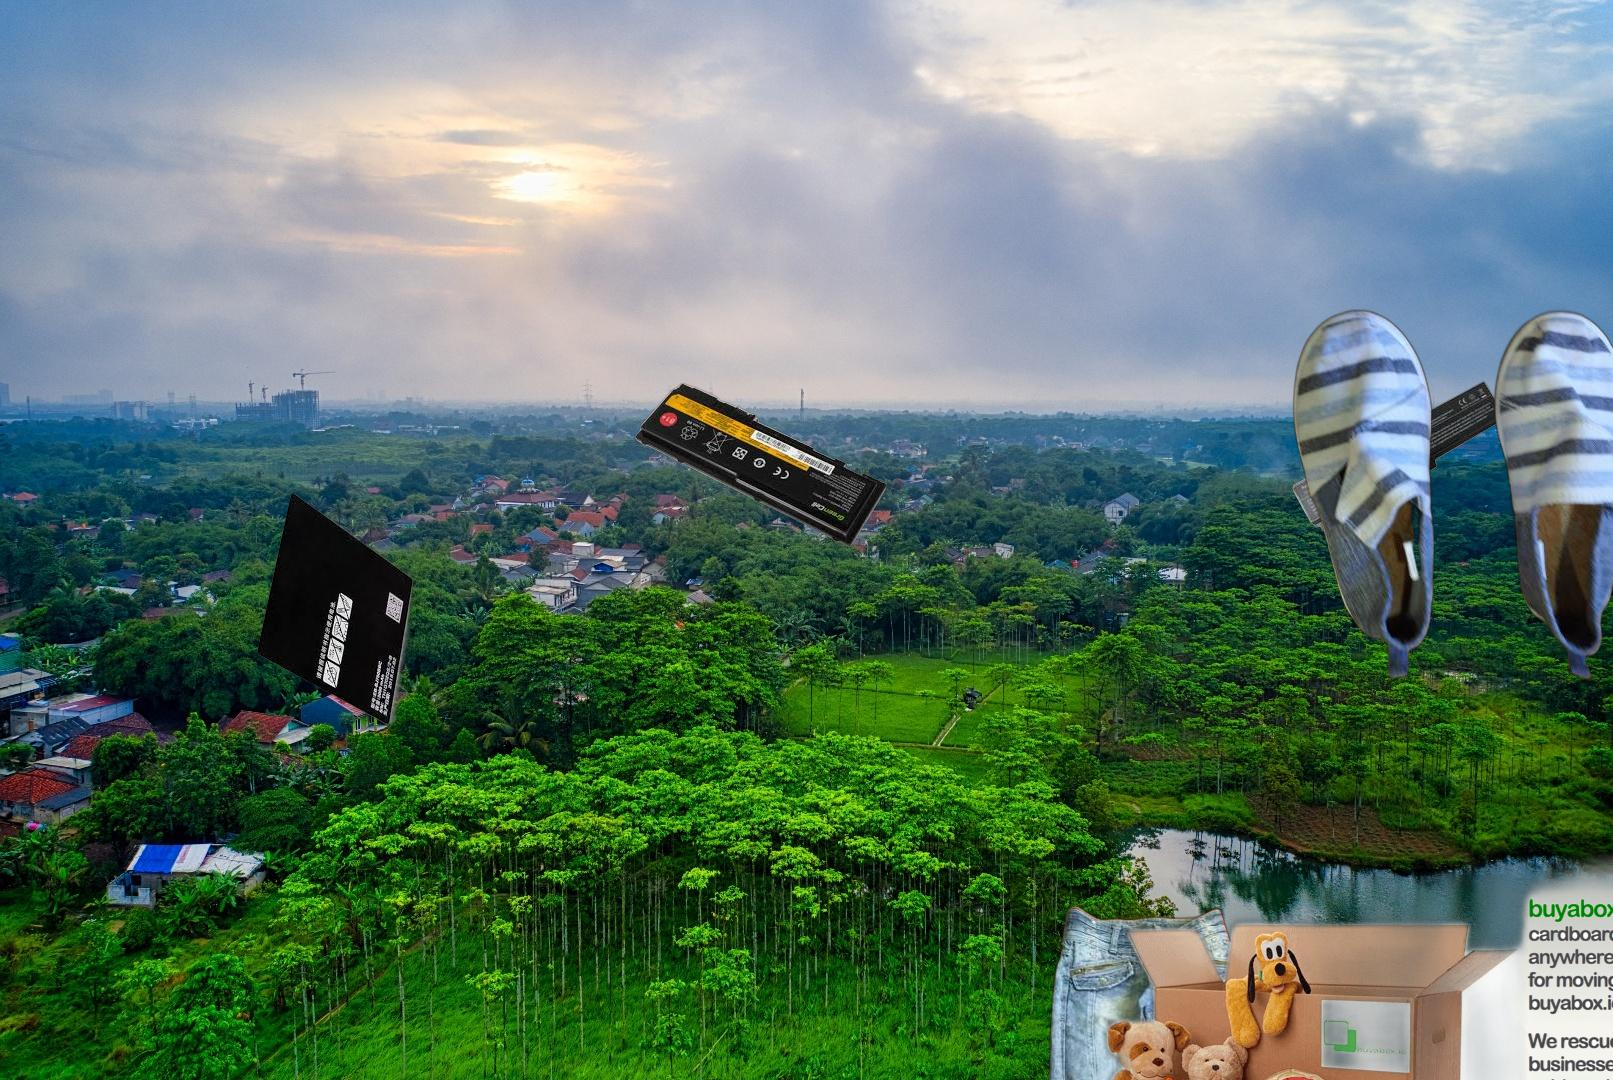battery: (242, 472, 421, 738), (633, 381, 888, 550), (1290, 378, 1507, 535)
clothes: (1046, 900, 1290, 1080)
shoes: (1290, 306, 1613, 686)
trashbox-cardboard: (1001, 669, 1613, 1080)
